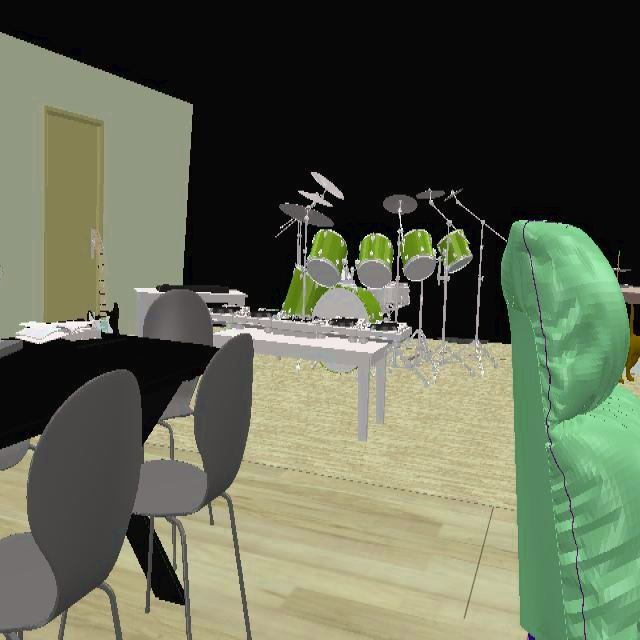chair: (0, 370, 142, 638), (132, 335, 254, 638), (142, 292, 212, 344), (159, 377, 197, 458)
sofa: (501, 222, 640, 638)
table: (0, 333, 216, 448), (151, 535, 184, 604), (126, 515, 149, 572)
